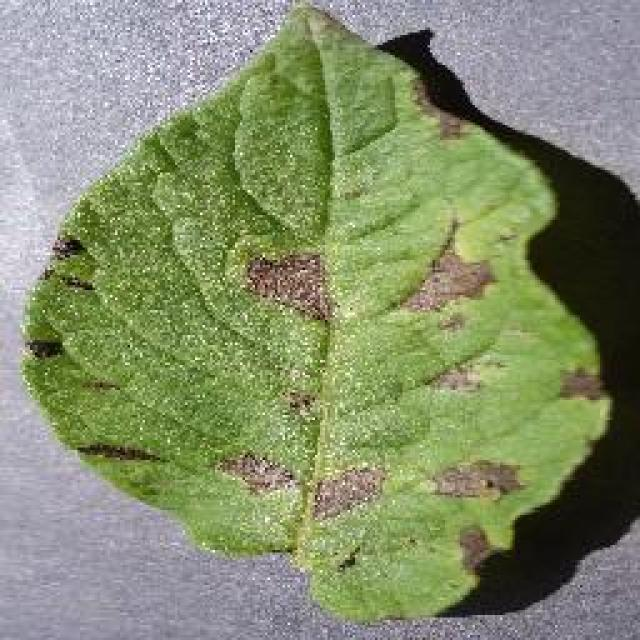early_blight: (15, 0, 615, 625)
